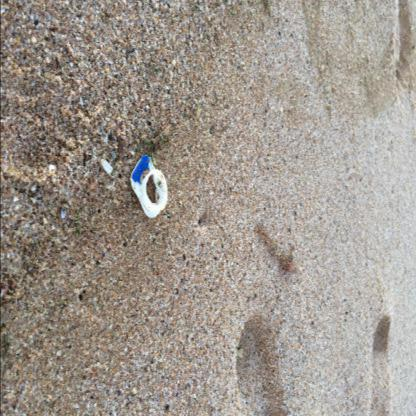Other plastic: (130, 155, 167, 218)
